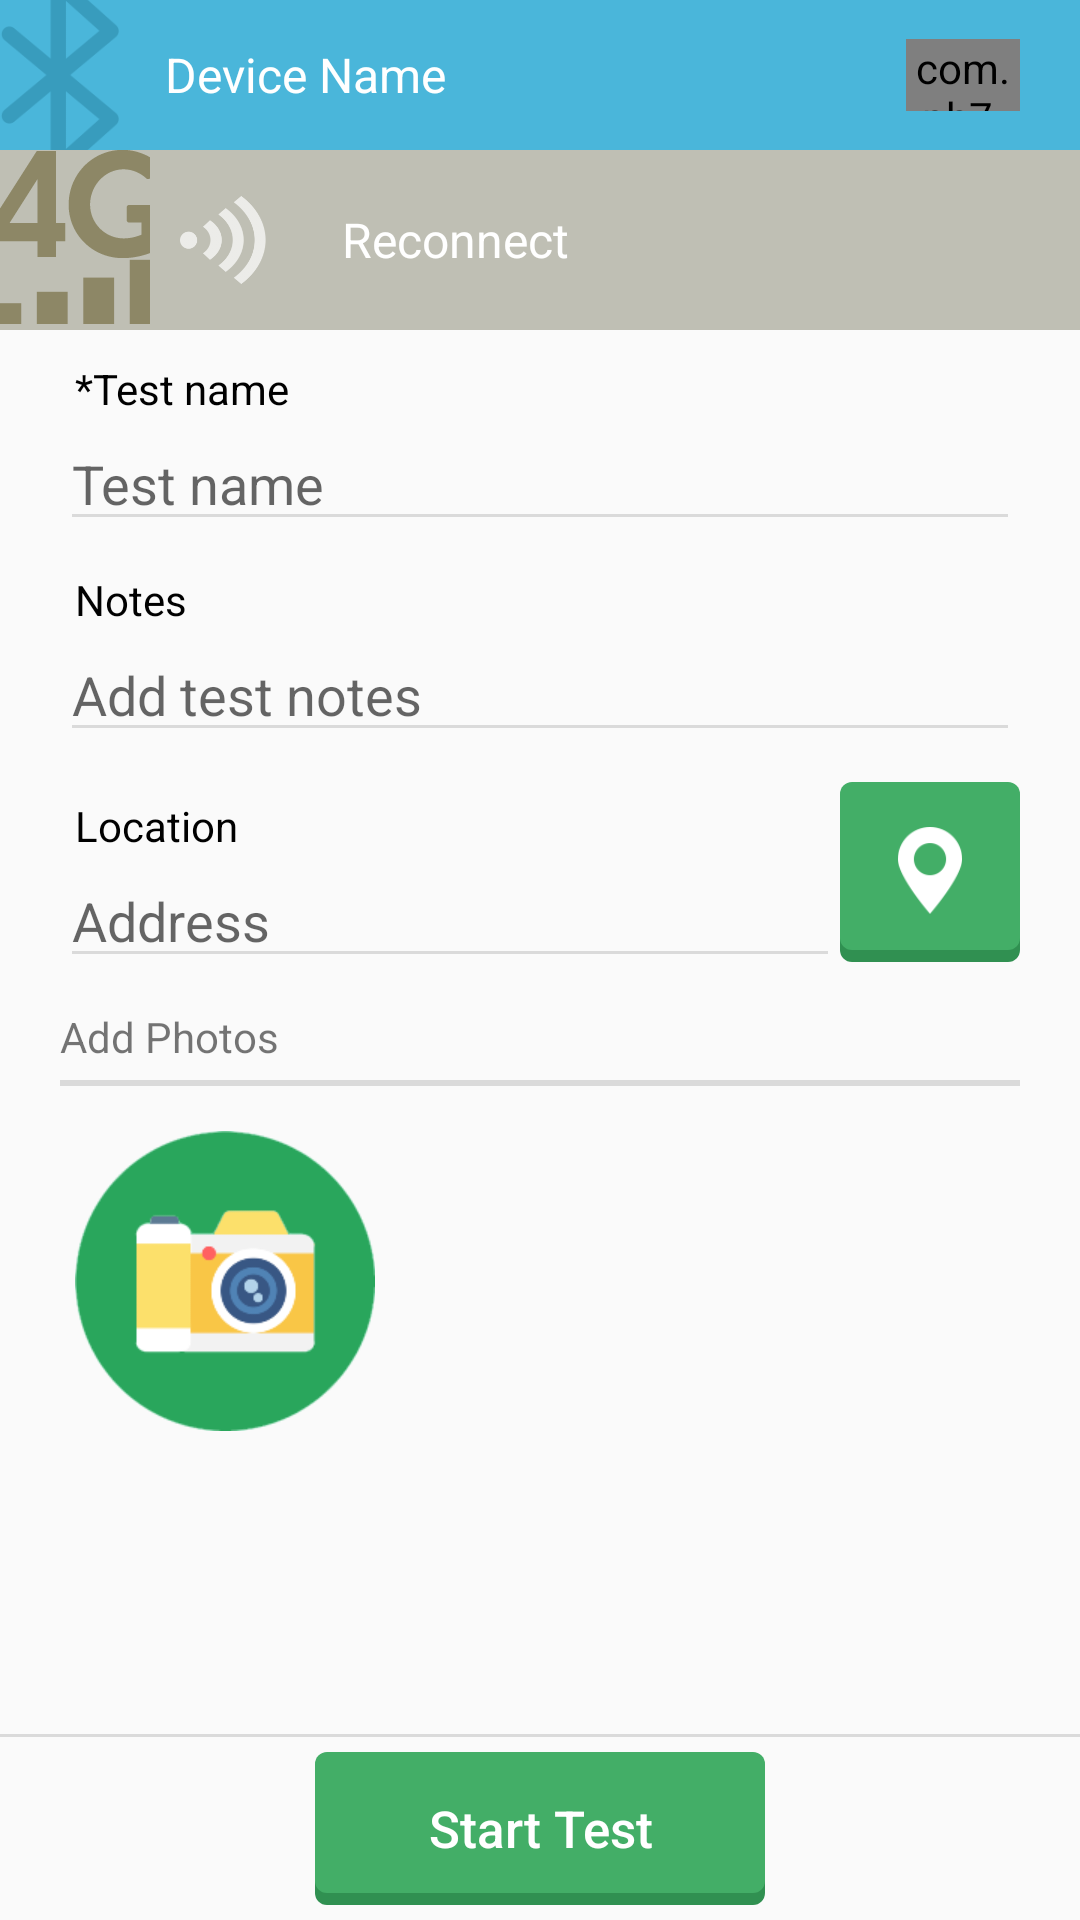

Icons on this 1080×1920 Android screen, each with its box as region(x1, y1, x2, y2):
network operator: region(0, 151, 150, 324)
wifi signal: region(180, 196, 266, 284)
